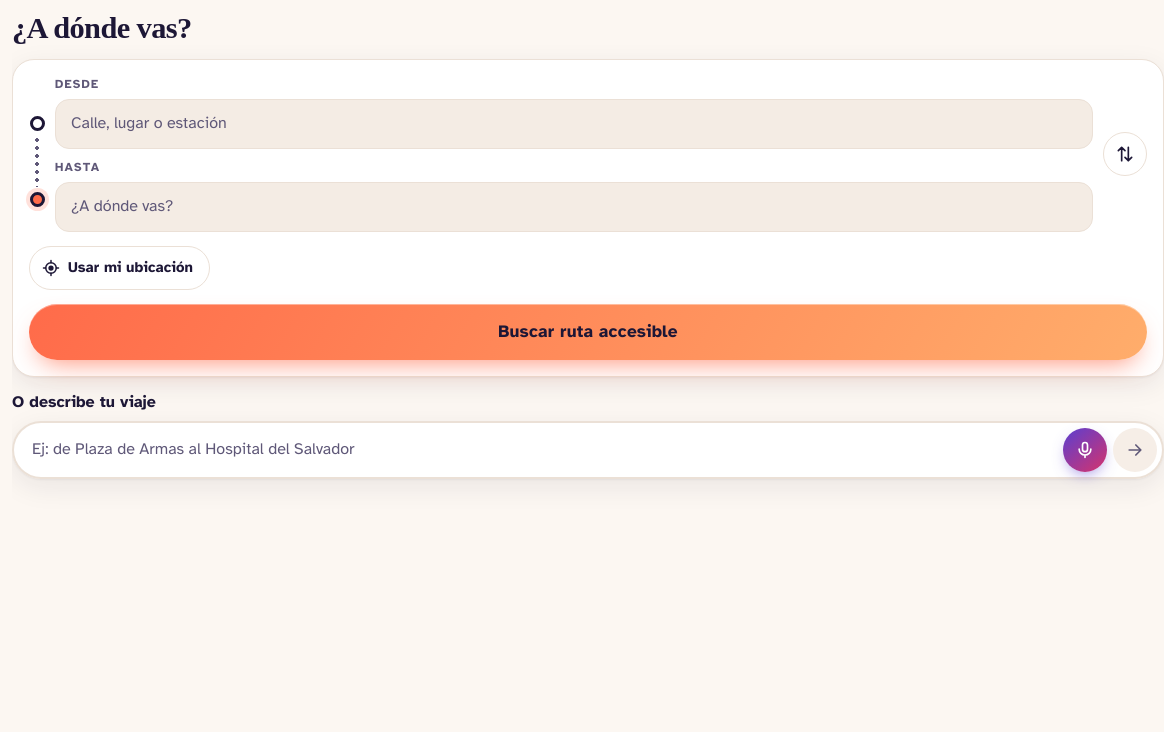
Scenario: SearchForm › asks for both places instead of guessing
The width and height of the screenshot is (1164, 732).
Step 1. Click the button "Buscar ruta accesible" → (588, 332), box top-left (29, 304), bottom-right (1147, 360)
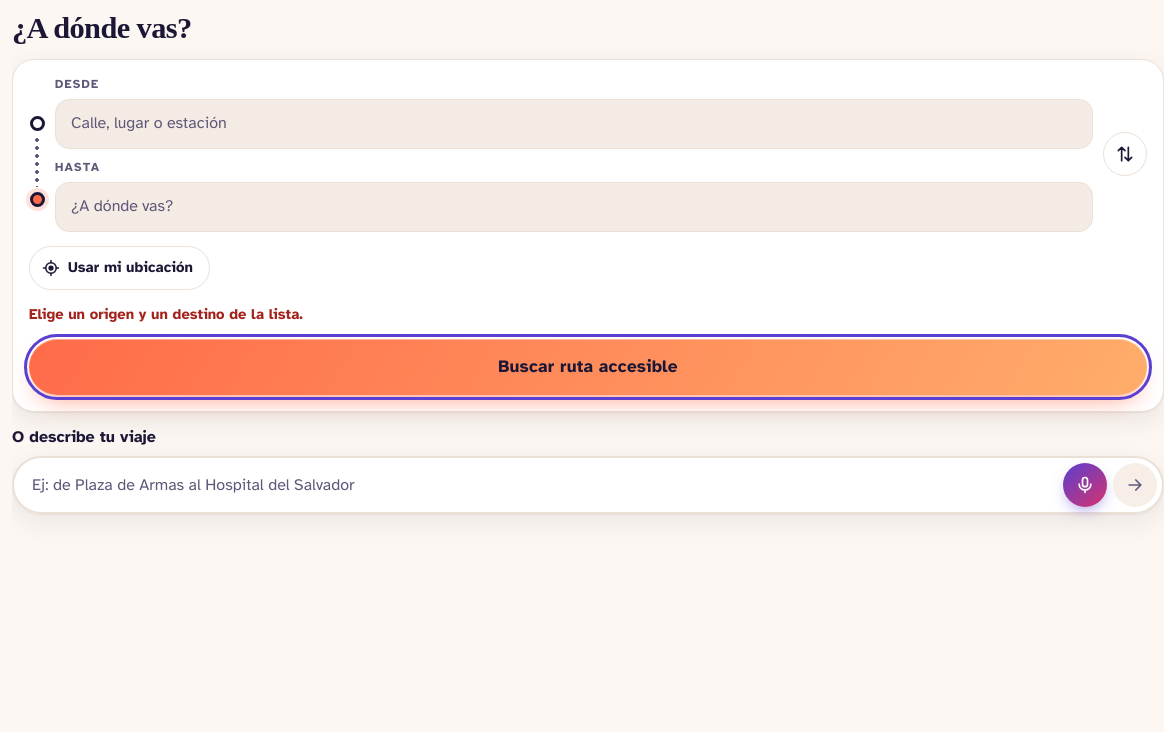
Expected: the message reads "Elige un origen y un destino de la lista.", top-left (29, 305), bottom-right (303, 323)
